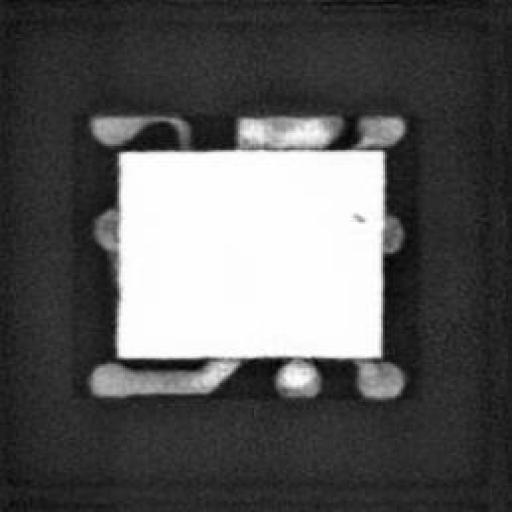DIE_INK: (345, 207, 367, 222)
